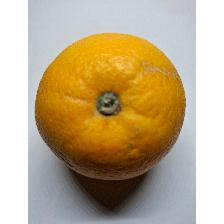Orange: (32, 32, 190, 184)
